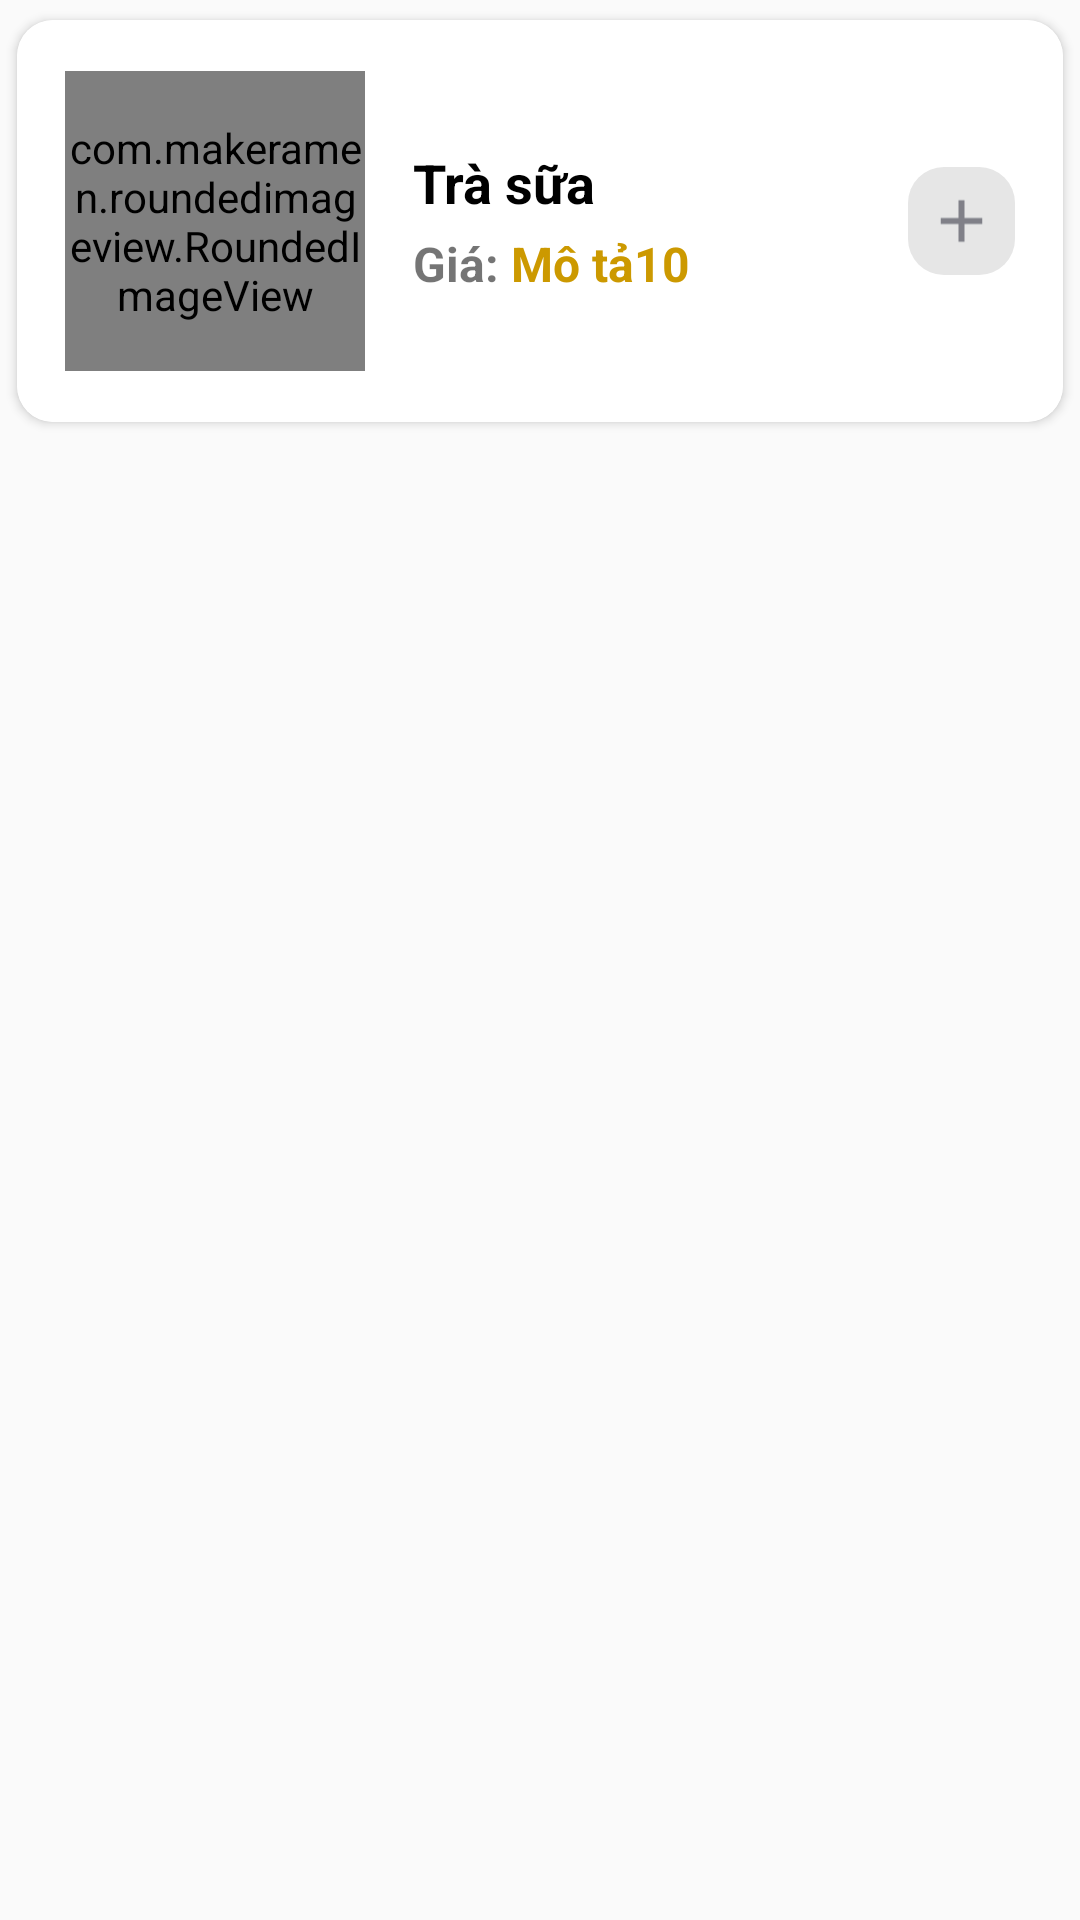

Icons on this 1080px×1920px Android screen, each with the point to tap as [x,y]:
add: [961,221]
